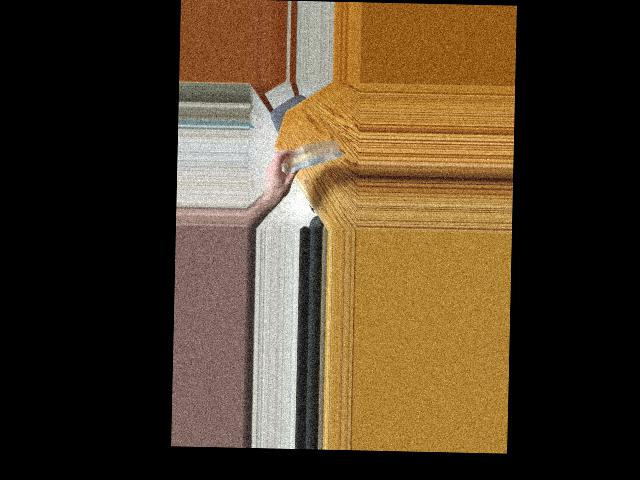cheese: (275, 142, 344, 168)
